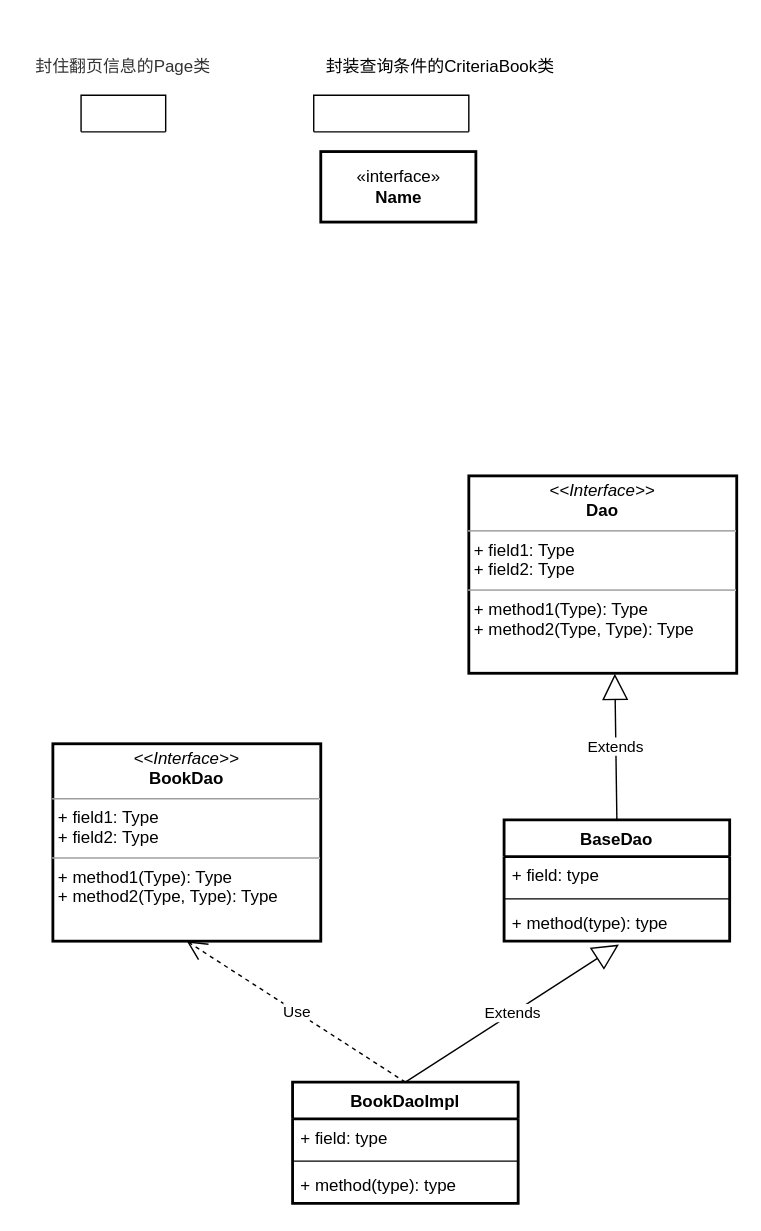
This 761x1231 diagram has some shape labels left out. Each missing label, with the centre of its shape:
"CritertiaBook" belongs at [390,113].
"Page" belongs at [123,113].
